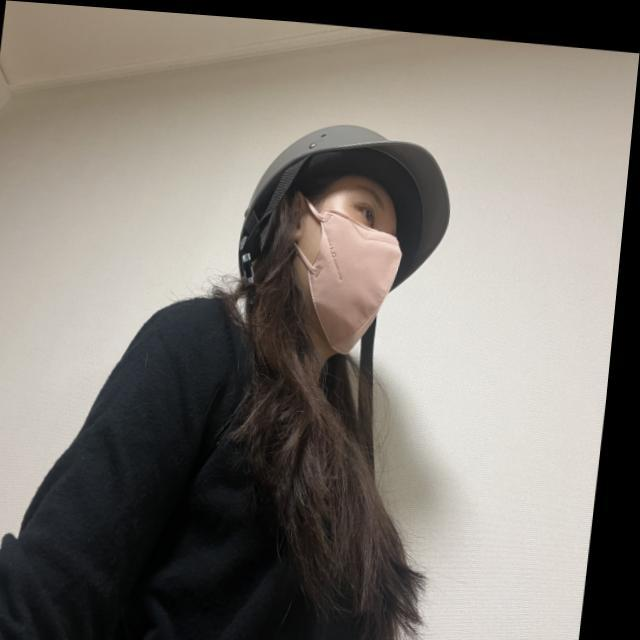Helmet: (234, 106, 463, 357)
